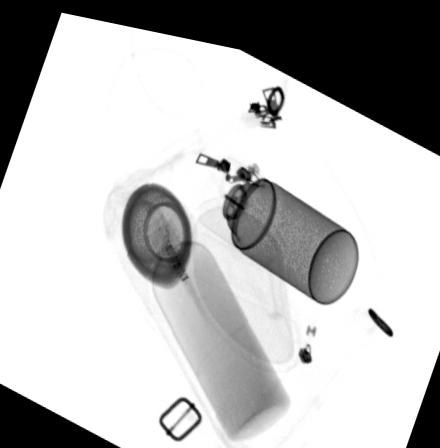Sprayer: (193, 144, 361, 293)
